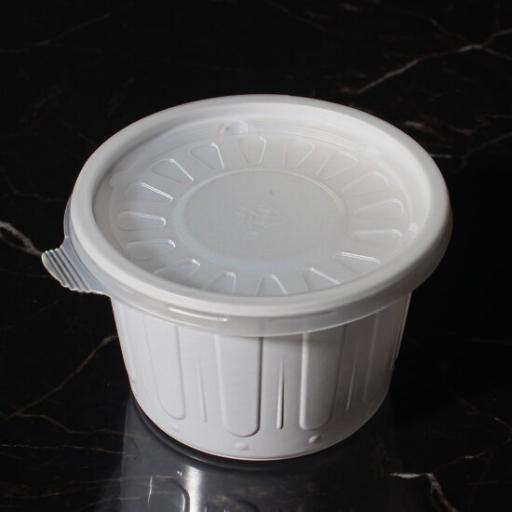plastic: (42, 95, 451, 459)
